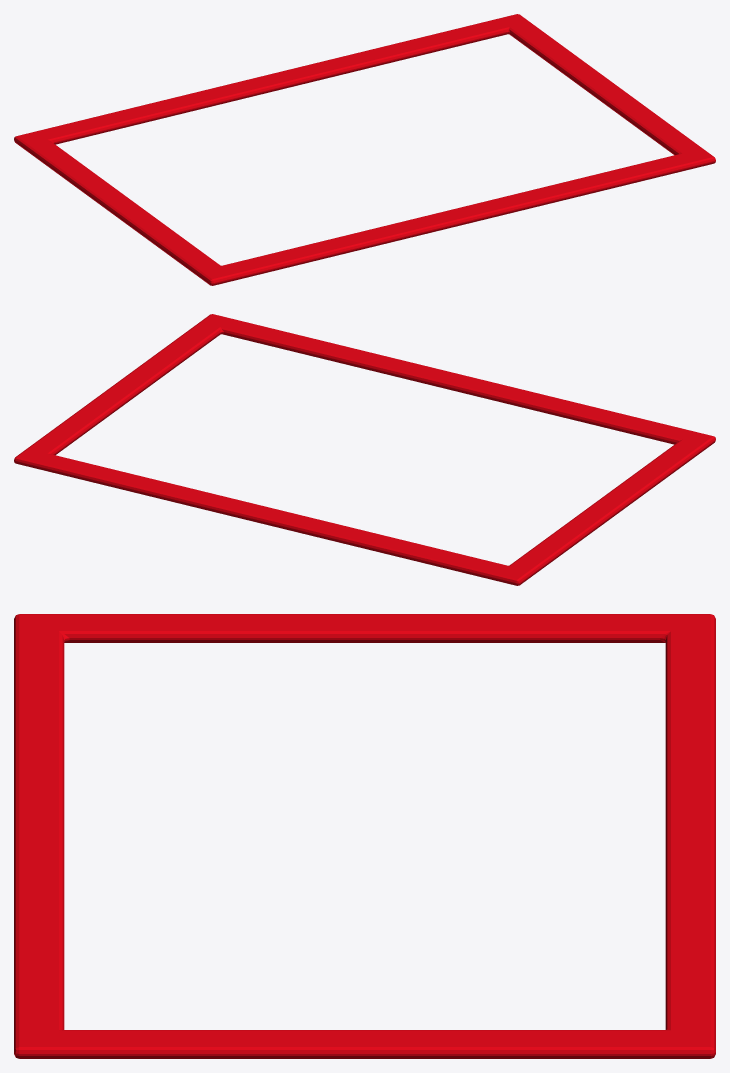
File: square.fbx
3 renders of one model, top to bottom at view 1: azimuth 30°, elevation 25°; view 2: azimuth 150°, elevation 25°; view 3: azimuth 270°, elevation 25°, orthographic. The views are drawn at different scales.
Parts seen in each view (by area): view 1: Plane.069; view 2: Plane.069; view 3: Plane.069.
Boxes of the visible parts, x1=… form: Plane.069: x1=14, y1=14, x2=715, y2=285; Plane.069: x1=14, y1=314, x2=715, y2=585; Plane.069: x1=14, y1=614, x2=715, y2=1058.
Size of the model in its own units: 2146 by 26.85 by 1456.
